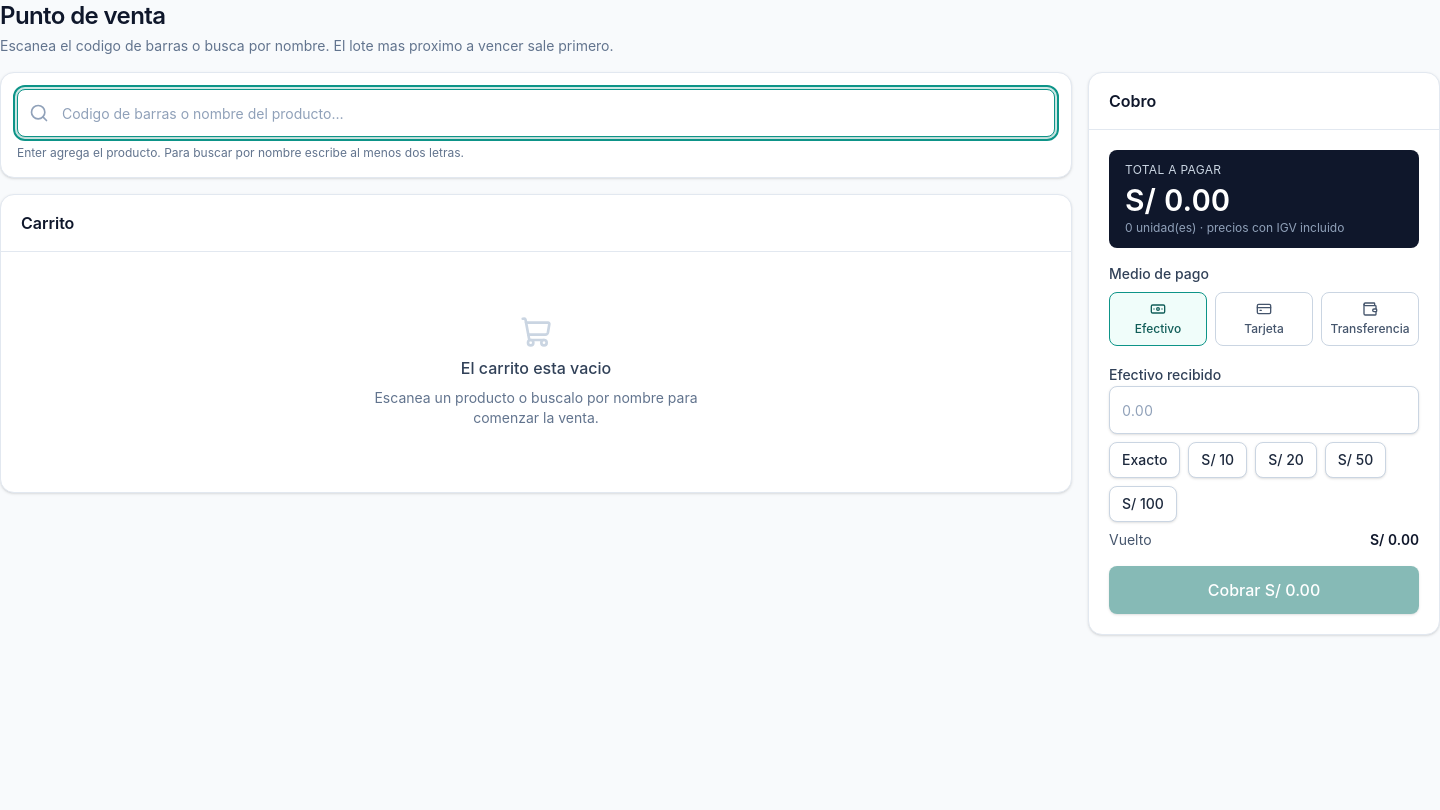
Test case: PosPage › busca, agrega al carrito y cobra con vuelto calculado en pantalla
In the field named "Buscar producto": (536, 113) [17,89,1055,137], type "paracetamol"
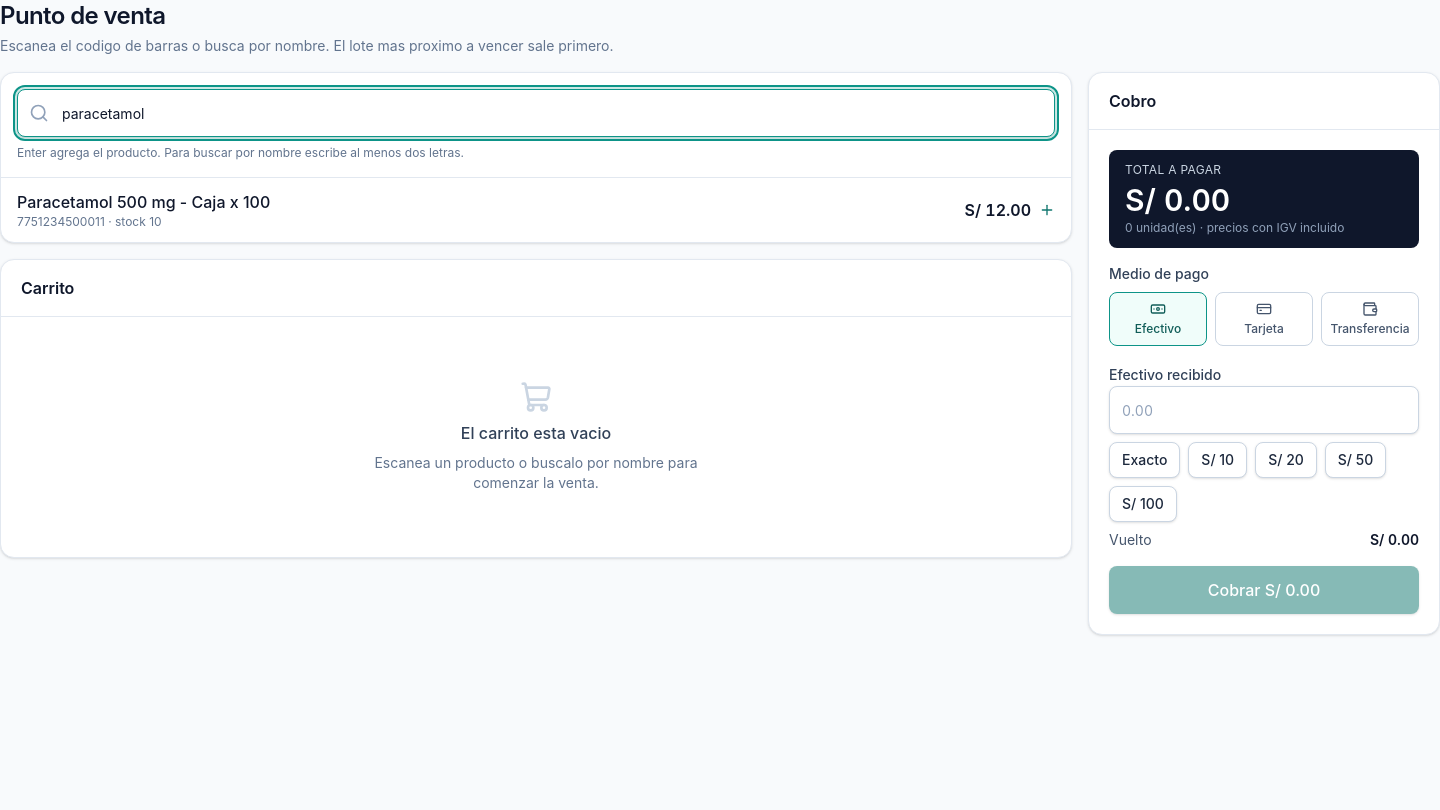
Click the button "Paracetamol 500 mg": (144, 202) [1,178,1071,242]
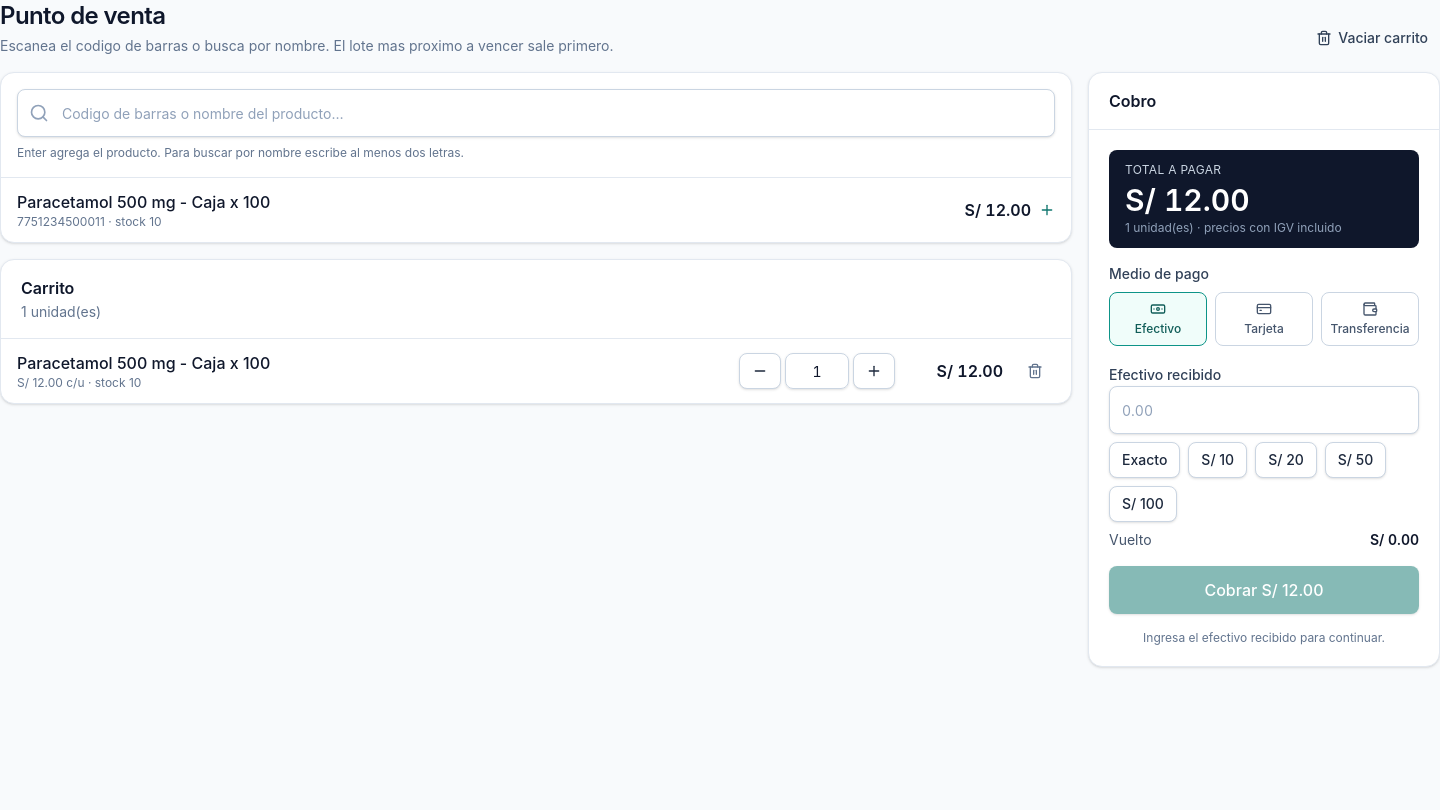
Result: the number field named "Cantidad de Paracetamol 500 mg - Caja x 100" holds "1" at [785,353,849,389]
Result: the button "Cobrar S/ 12.00" is shown at [1109,566,1419,614]
Click the button "Exacto": (1145, 460) [1109,442,1180,478]
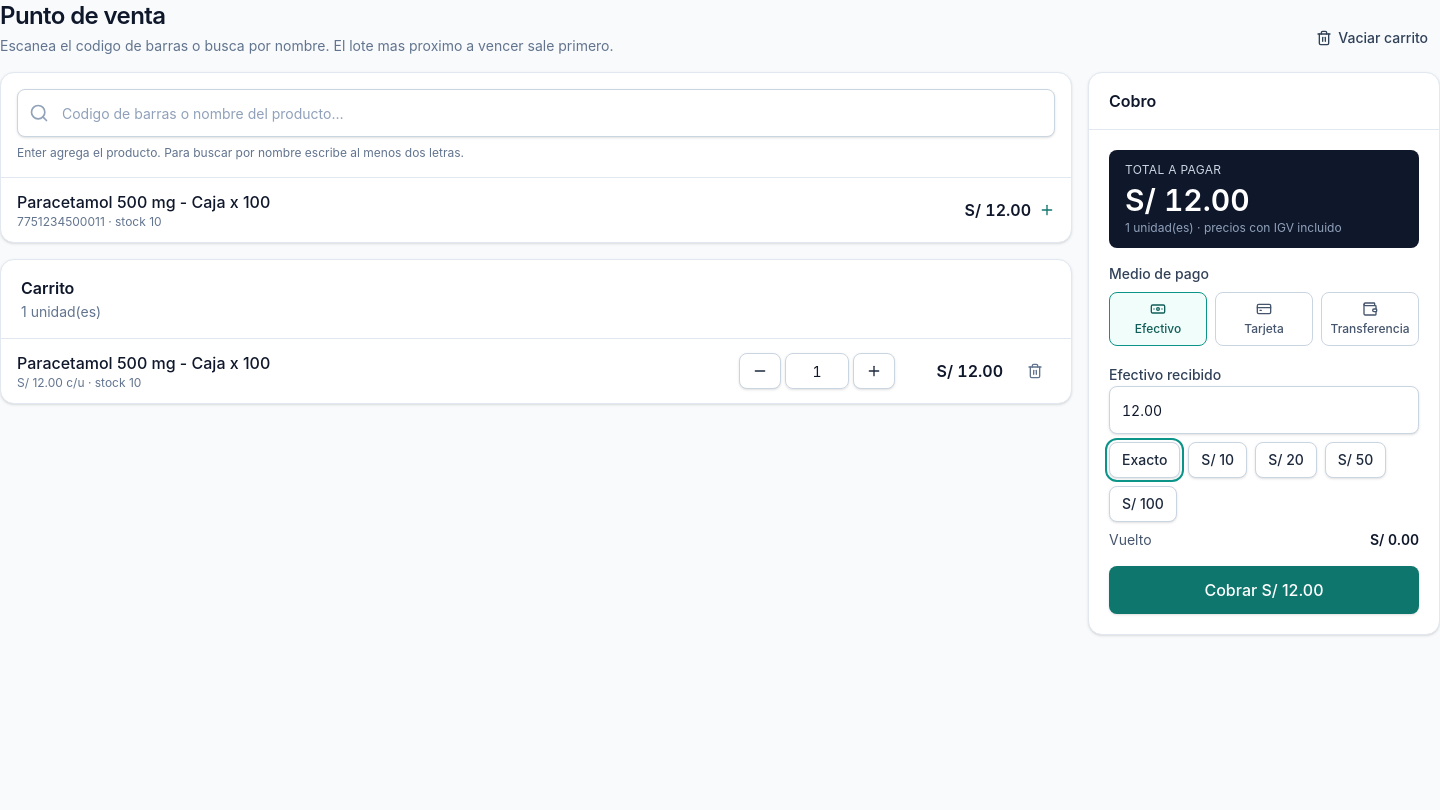
Click the button "Cobrar S/ 12.00": (1264, 590) [1109,566,1419,614]
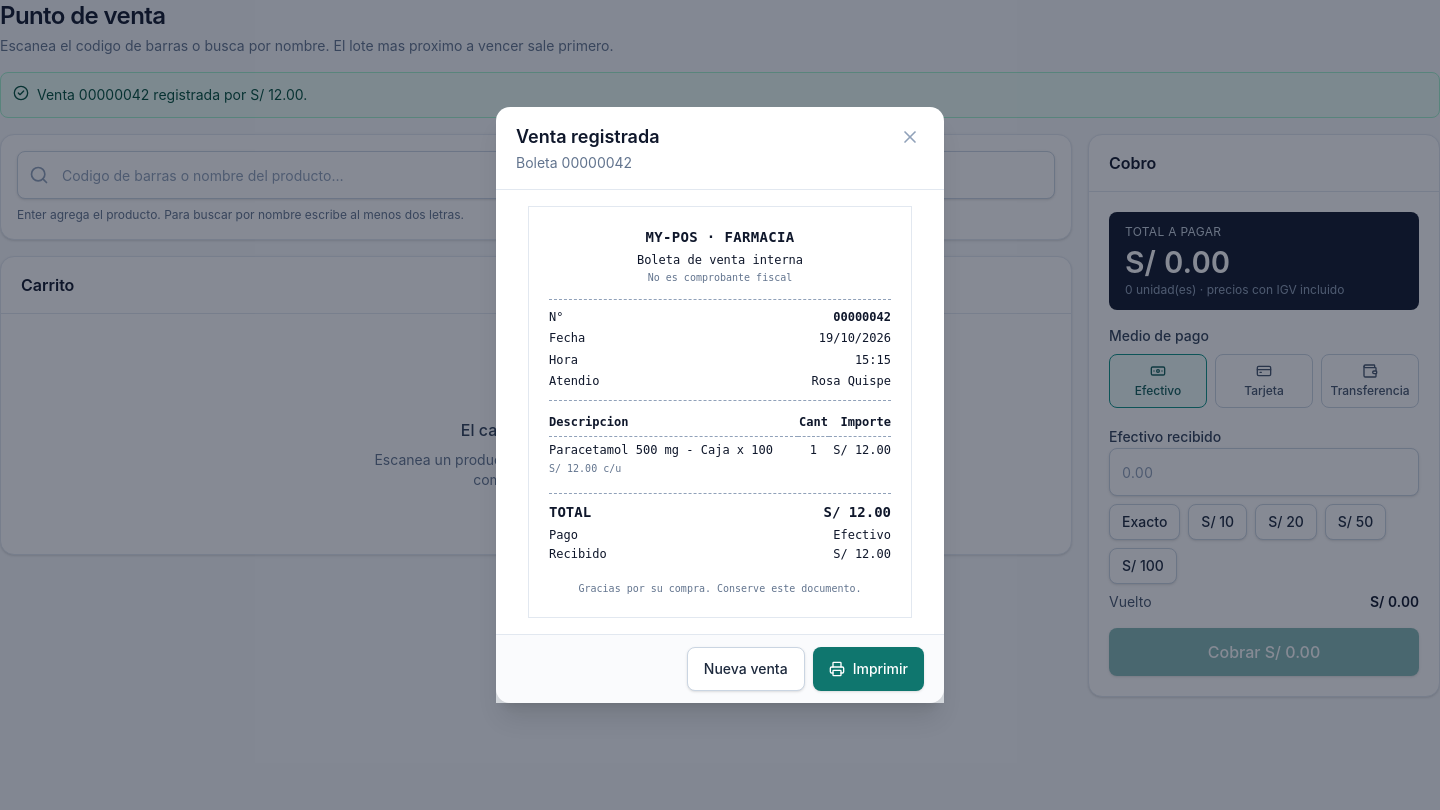
Result: the heading "Venta registrada" is shown at [516,123,660,151]
Result: the text "Venta 00000042 registrada por S/ 12.00." is shown at [37,85,307,105]
